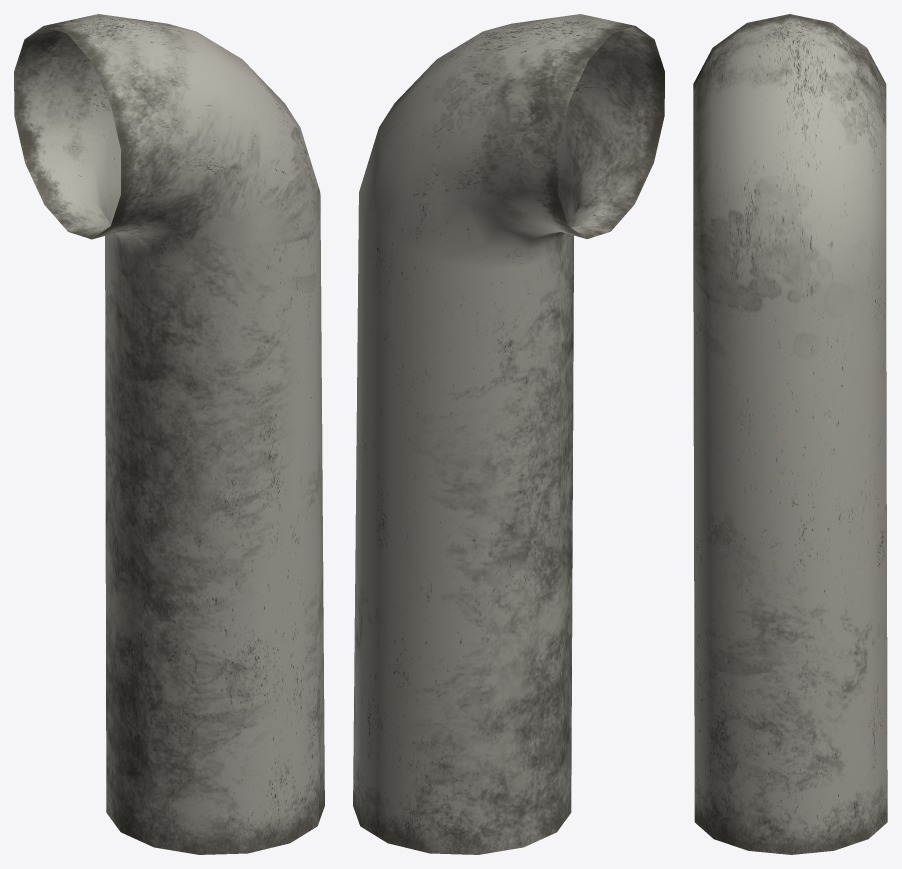
File: Hood01_Hose01.FBX
The picture shows the model from 3 angles, left to right: view 1: azimuth 30°, elevation 25°; view 2: azimuth 150°, elevation 25°; view 3: azimuth 270°, elevation 25°; orthographic projection. The views are drawn at different scales.
Parts seen in each view (by area): view 1: Hood01_Hose01_LOD0; view 2: Hood01_Hose01_LOD0; view 3: Hood01_Hose01_LOD0.
Part boxes in pixels (x1,y1,x2,y2): Hood01_Hose01_LOD0: (14, 14, 324, 854); Hood01_Hose01_LOD0: (353, 14, 664, 854); Hood01_Hose01_LOD0: (693, 14, 887, 854).
Bounding box in the file's own units: 19.3 × 14.73 × 61.38.
